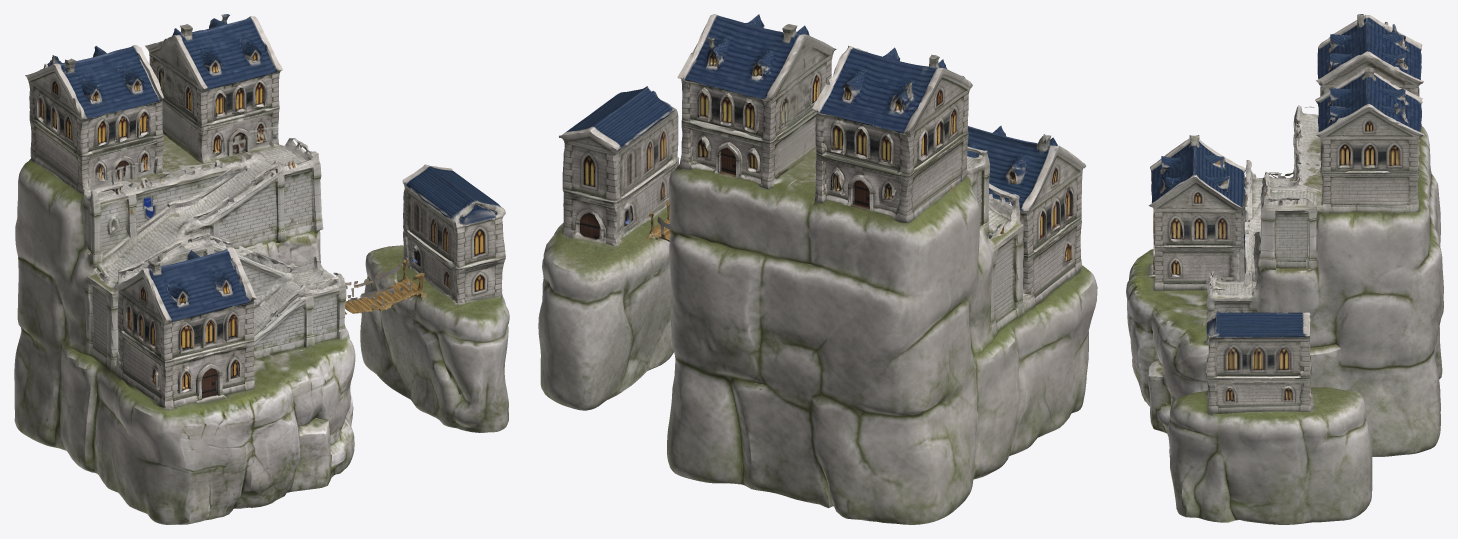
File: cloudreach_cliffhold_tiered_quarter.glb
3 views of the same model, side by side, from view 1: azimuth 30°, elevation 25°; view 2: azimuth 150°, elevation 25°; view 3: azimuth 270°, elevation 25° (orthographic). The views are drawn at different scales.
Parts seen in each view (by area): view 1: Mesh_0; view 2: Mesh_0; view 3: Mesh_0.
Part boxes in pixels (x1,y1,x2,y2): Mesh_0: (14,14,509,524); Mesh_0: (538,14,1097,524); Mesh_0: (1126,14,1443,524).
Size of the model in its own units: 32 by 28.66 by 23.65.
Materials: 1 (1 with a texture image).
